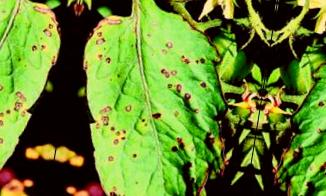Tomato leaf bacterial spot: (61, 0, 240, 196)
